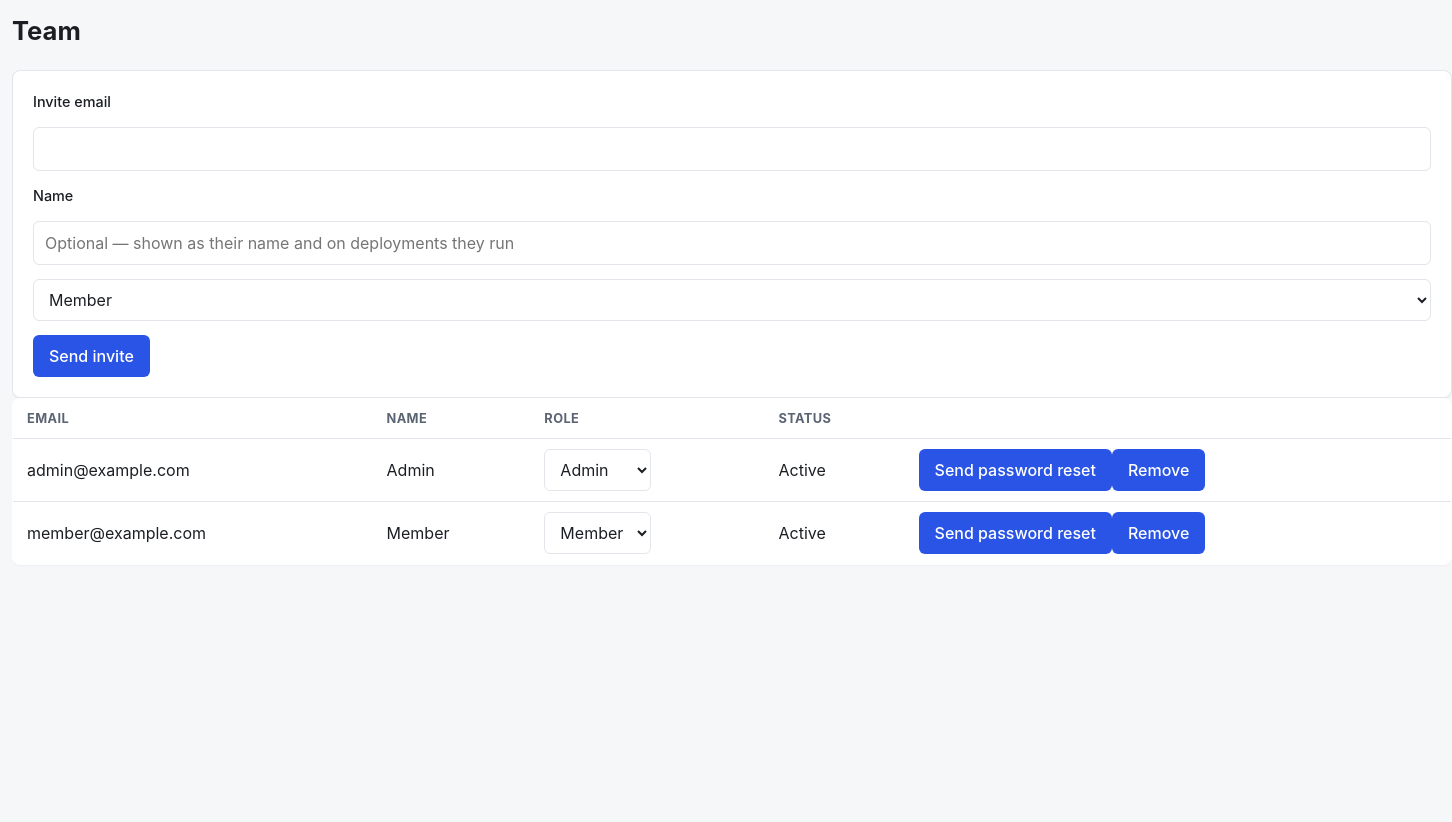
Scenario: Team › invites a teammate and shows a confirmation, not a link
Expected: the text "admin@example.com" is shown, [12,438,372,501]
Type "new@example.com" into the field labelled "Invite email" at {"x": 732, "y": 149}, box [33,127,1431,171]
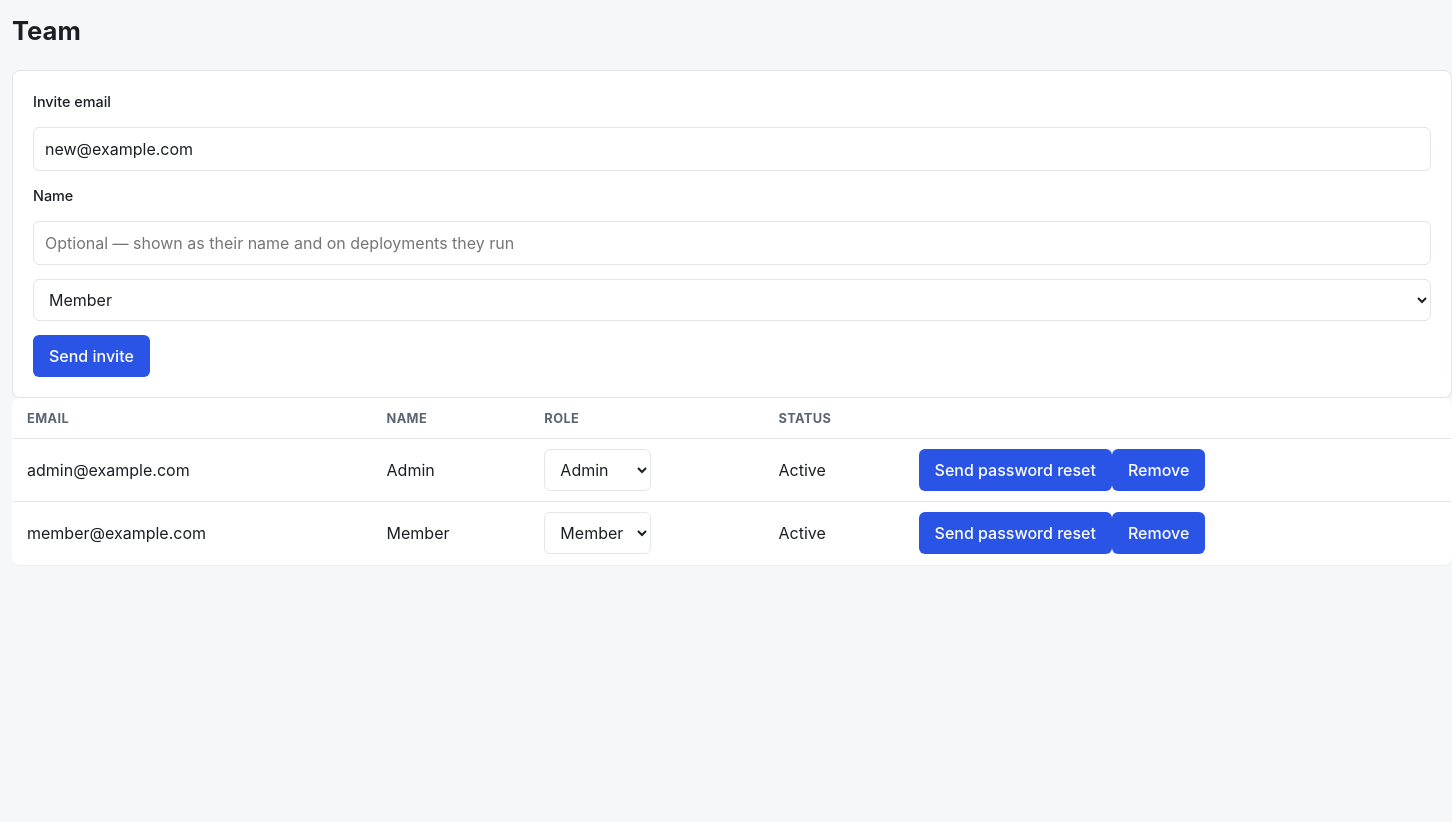
Click the button "Send invite" at {"x": 91, "y": 356}, box [33,335,150,377]
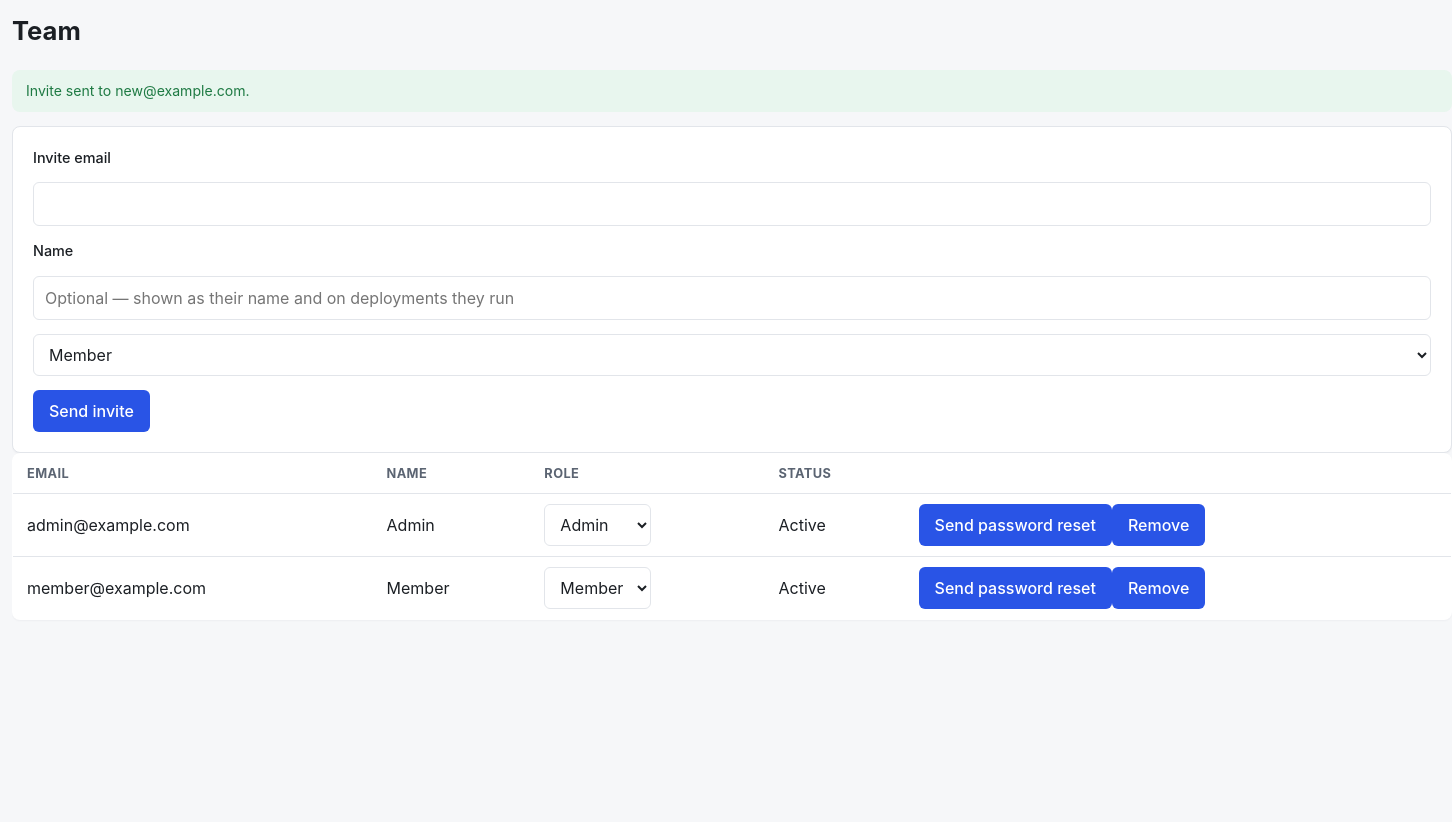
Expected: the text "Invite sent to new@example.com." is shown, [12,70,1451,112]
